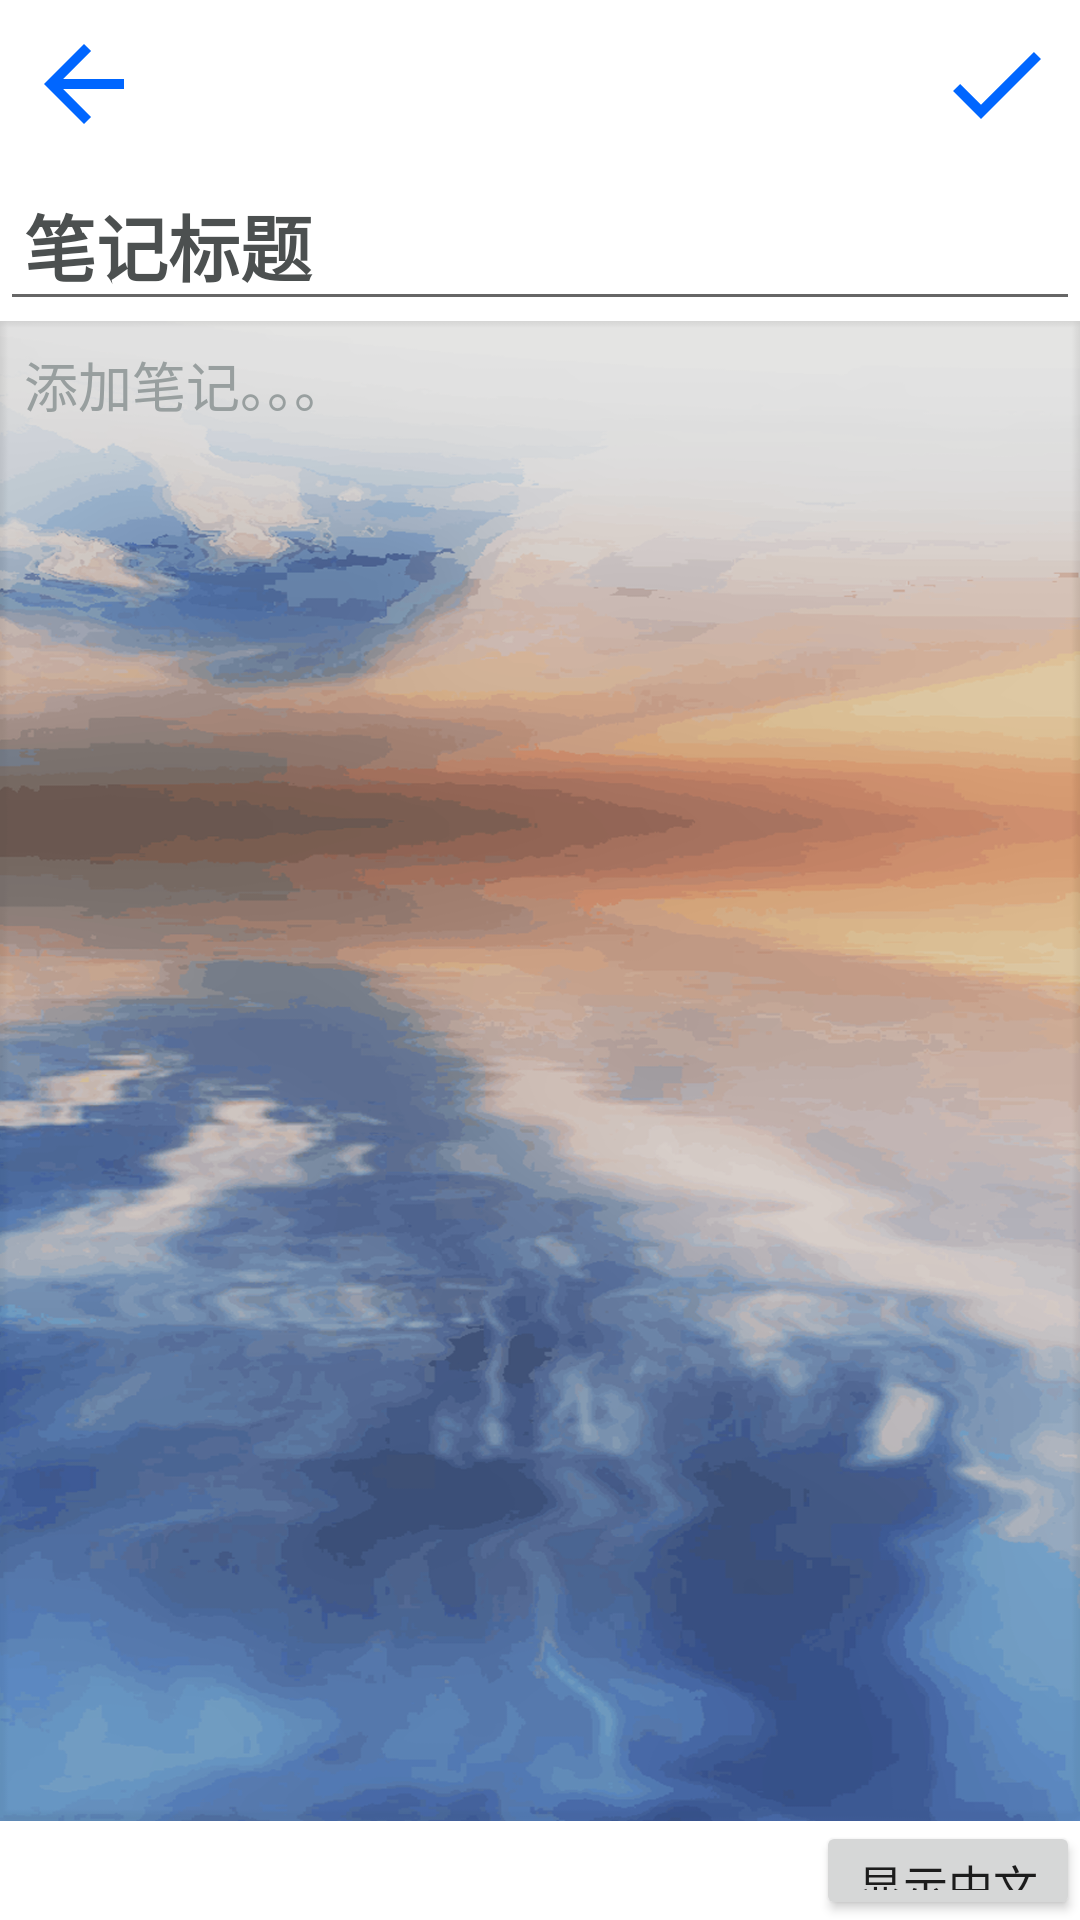

Named icons in this screenshot (1080x1920) and their centers, point (x, y):
back: point (84, 84)
save: point (997, 85)
